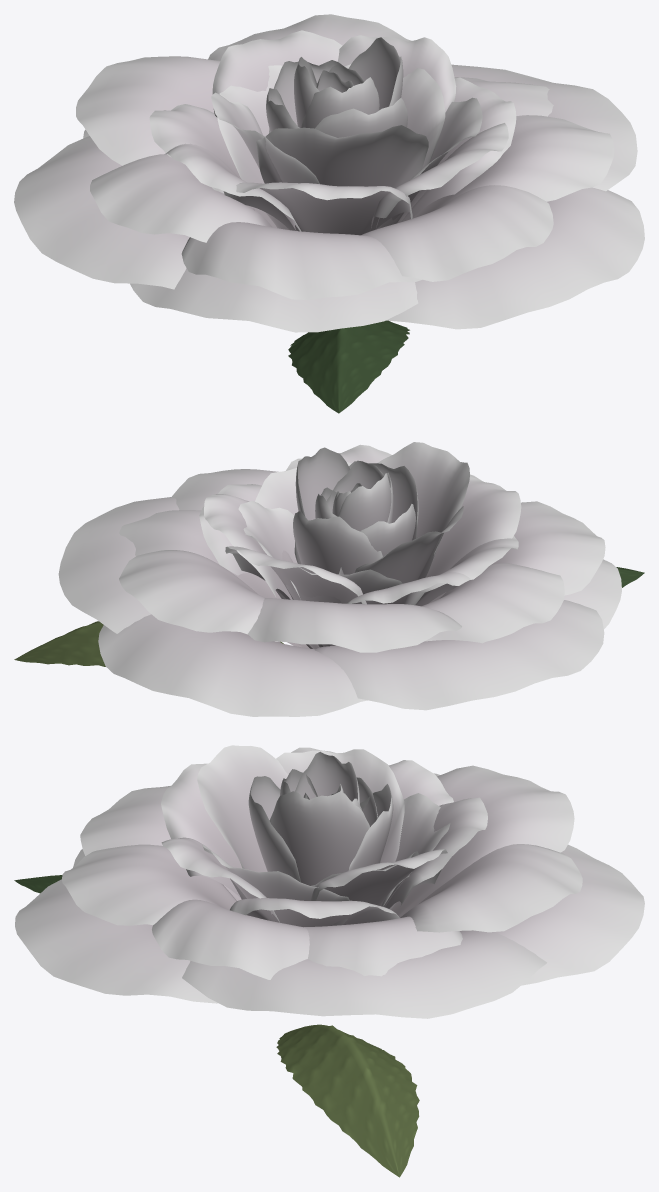
File: garden-rose.glb
3 renders of one model, top to bottom at view 1: azimuth 30°, elevation 25°; view 2: azimuth 150°, elevation 25°; view 3: azimuth 270°, elevation 25°, orthographic. The views are drawn at different scales.
Visible parts, largest first — view 1: Petals, Leaf; view 2: Petals, Leaf; view 3: Petals, Leaf.
Part boxes in pixels (x1=…): Petals: x1=14, y1=14, x2=644, y2=332; Leaf: x1=288, y1=320, x2=409, y2=413; Petals: x1=58, y1=442, x2=621, y2=716; Leaf: x1=14, y1=621, x2=283, y2=666; Petals: x1=15, y1=745, x2=644, y2=1018; Leaf: x1=276, y1=1024, x2=419, y2=1177.
Size of the model in its own units: 1.02 by 0.426 by 0.9593.
